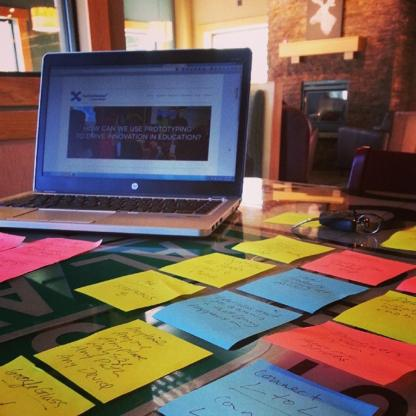board: (0, 48, 254, 240)
